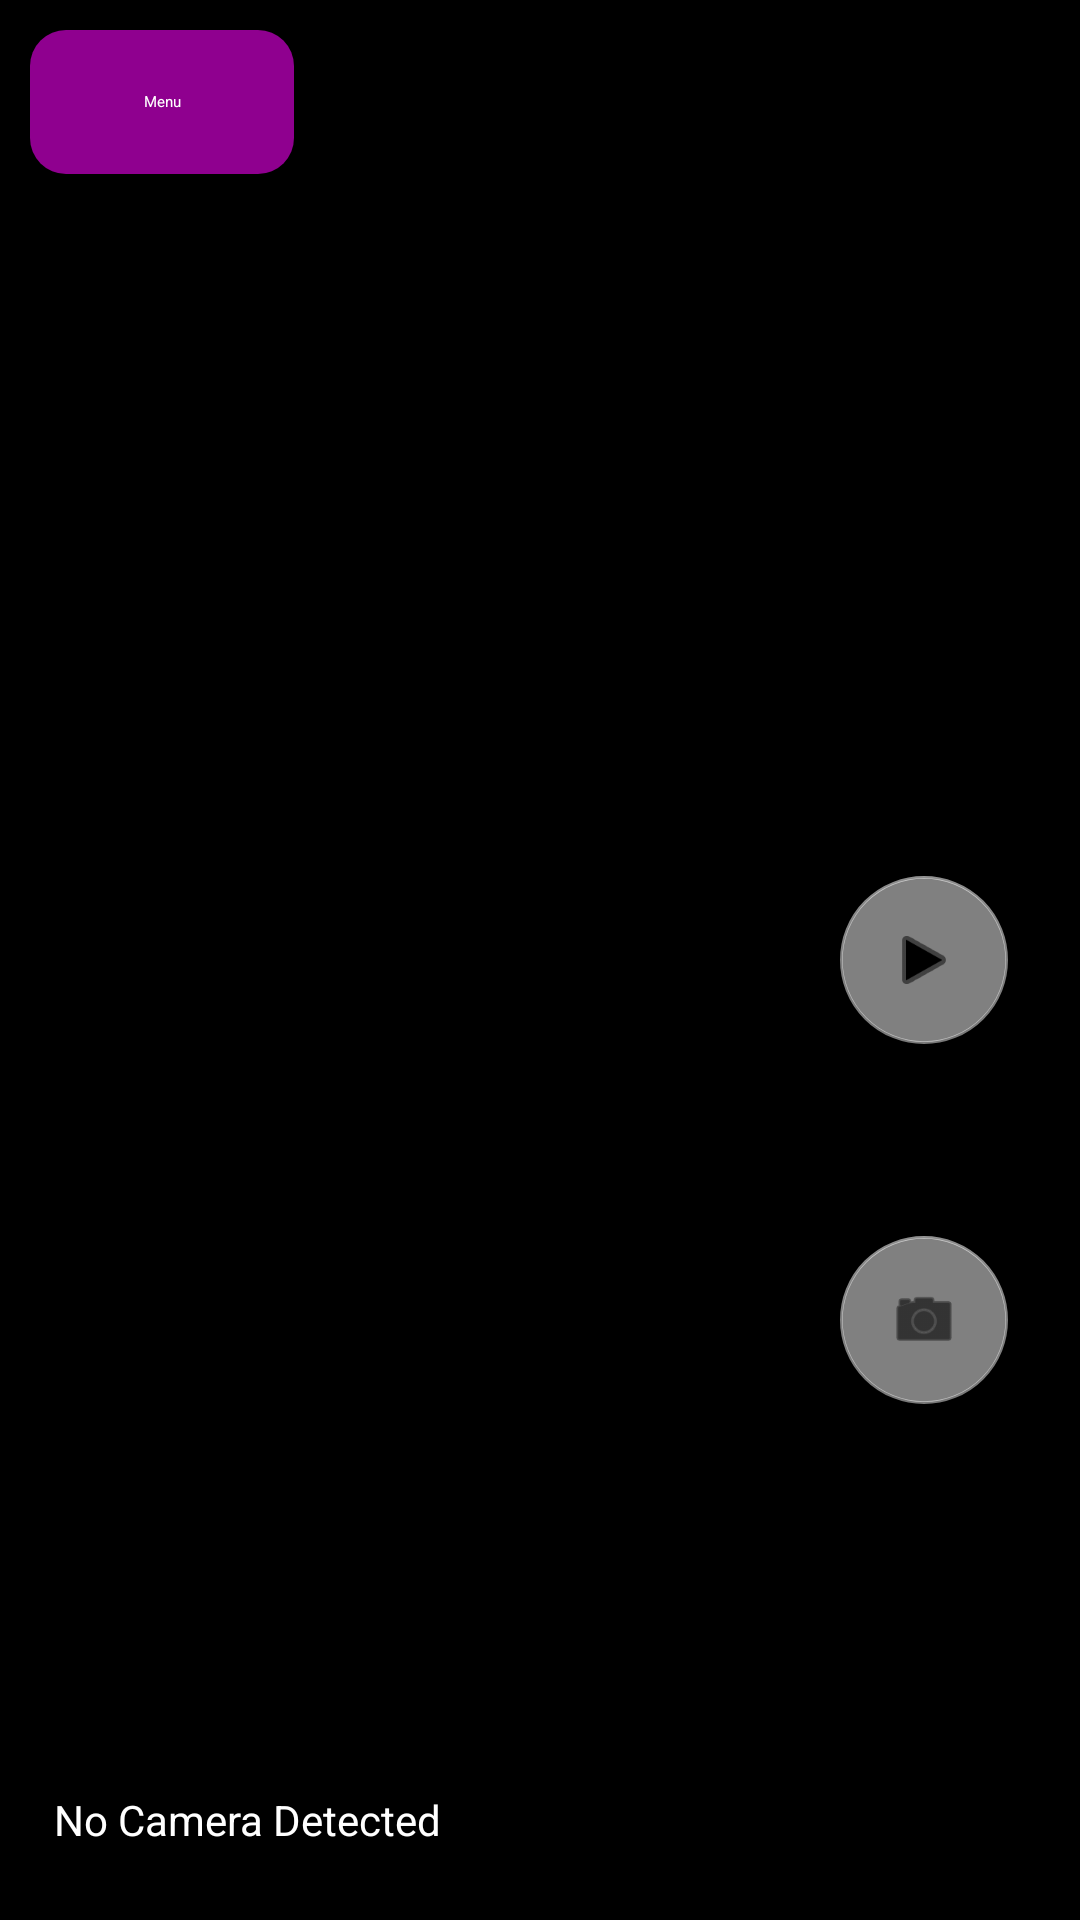

Icons on this 1080x1920 Android screen, each with its box as (left=x1, top=y1, right=x2, bottom=y2):
camera: (left=840, top=1236, right=1008, bottom=1404)
play: (left=840, top=876, right=1008, bottom=1044)
